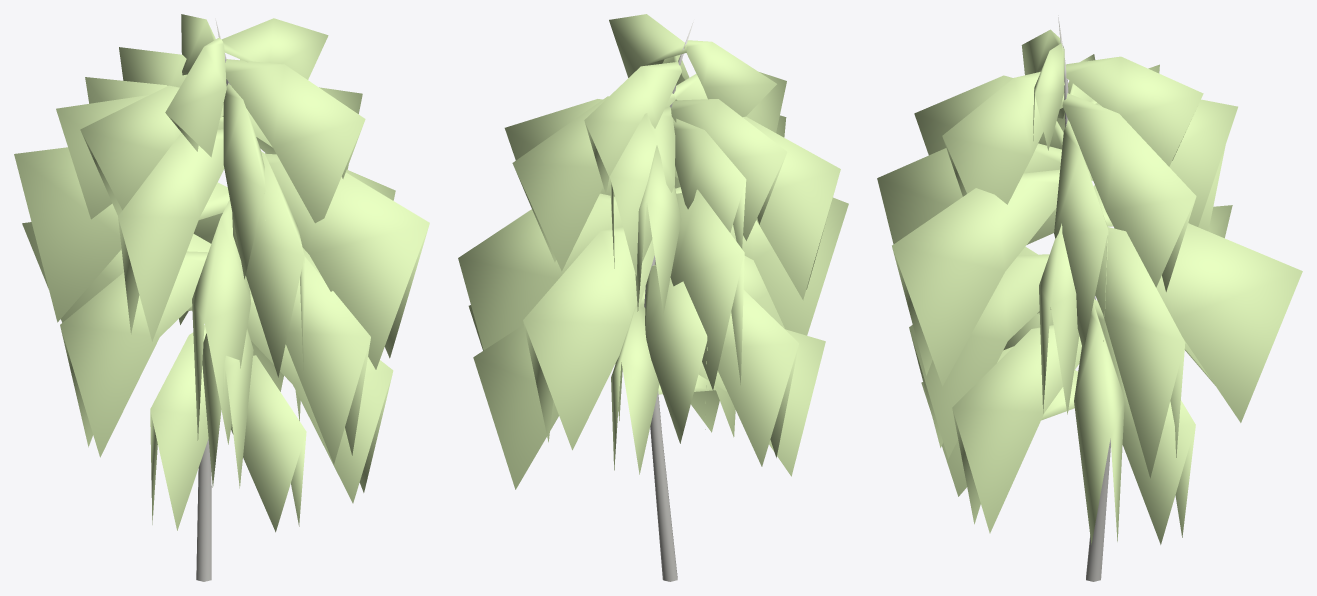
File: birch_02.fbx
3 renders of one model, left to right at view 1: azimuth 30°, elevation 25°; view 2: azimuth 150°, elevation 25°; view 3: azimuth 270°, elevation 25°, orthographic. The views are drawn at different scales.
Visible parts, largest first — view 1: Birch_02; view 2: Birch_02; view 3: Birch_02.
Part boxes in pixels (x1,y1,x2,y2): Birch_02: (14,14,429,581); Birch_02: (458,14,848,581); Birch_02: (877,15,1302,581).
Size of the model in its own units: 182 by 292 by 201.
